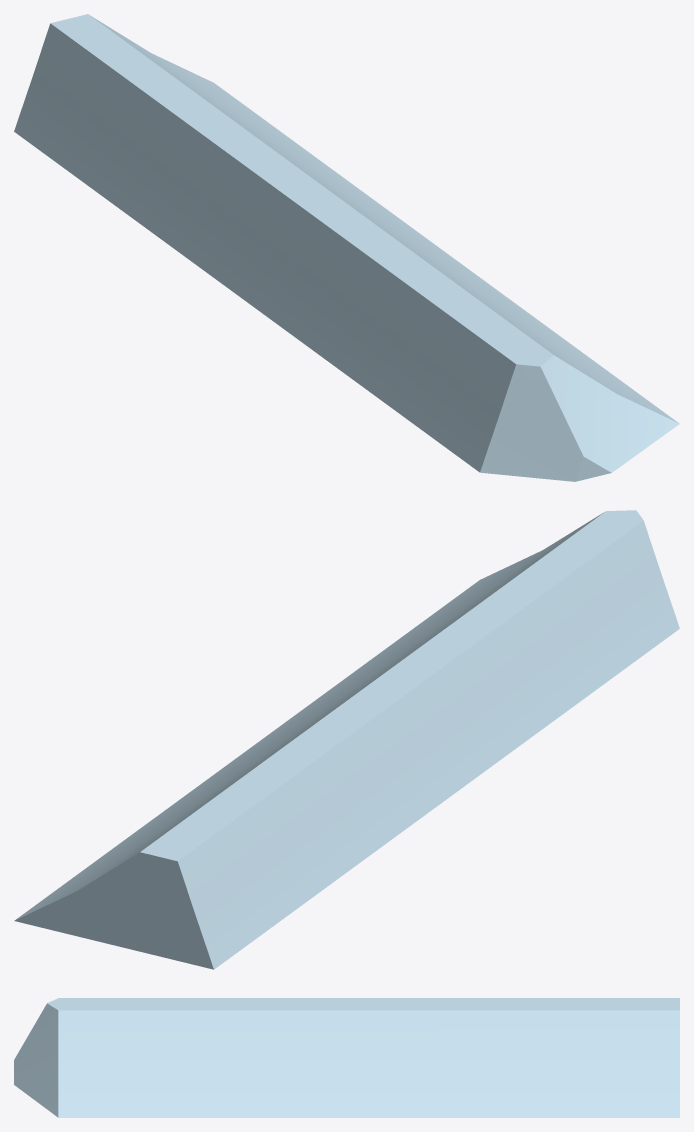
File: STAM - S1-1.gltf
3 views of the same model, one above another, from view 1: azimuth 30°, elevation 25°; view 2: azimuth 150°, elevation 25°; view 3: azimuth 270°, elevation 25° (orthographic). The views are drawn at different scales.
Parts seen in each view (by area): view 1: S1-1; view 2: S1-1; view 3: S1-1.
Boxes of the visible parts, bbox=[...] form: S1-1: bbox=[14, 14, 679, 481]; S1-1: bbox=[14, 510, 679, 969]; S1-1: bbox=[14, 998, 679, 1117].
Size of the model in its own units: 0.00347 by 0.00165 by 0.015.
